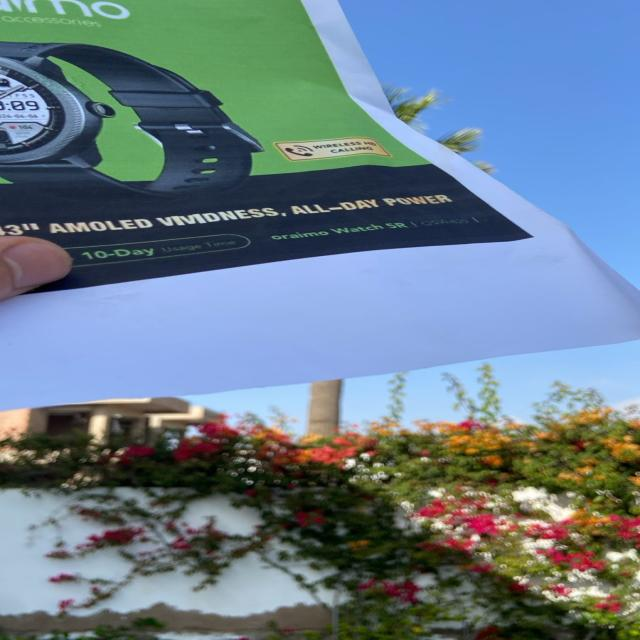Oraimo Watch 5R OSW-820: (265, 214, 489, 248)
